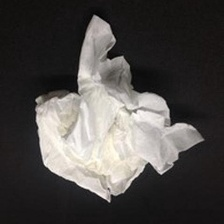tissue: (25, 9, 210, 209)
